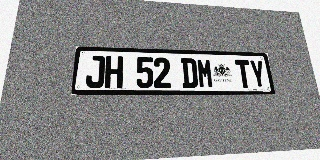2: (154, 57, 171, 88)
5: (137, 57, 154, 88)
D: (181, 58, 198, 88)
H: (104, 56, 123, 88)
J: (85, 55, 105, 88)
M: (196, 58, 214, 88)
T: (235, 59, 253, 88)
Y: (249, 60, 267, 88)
